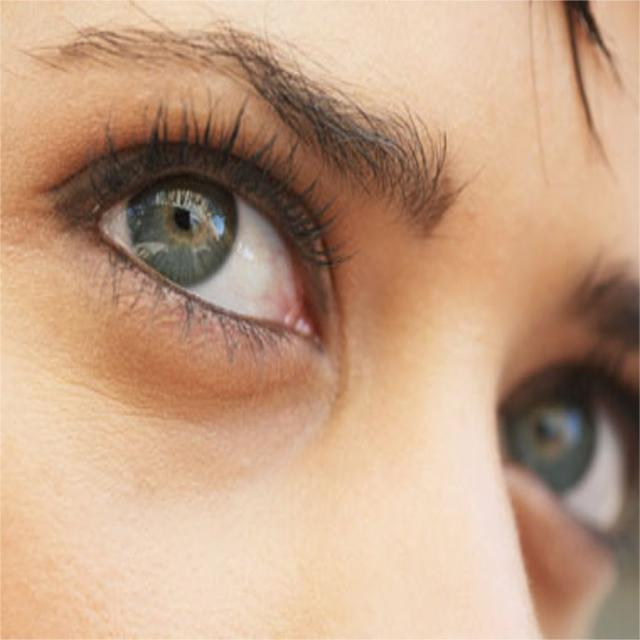Eyebags: (8, 114, 354, 466)
